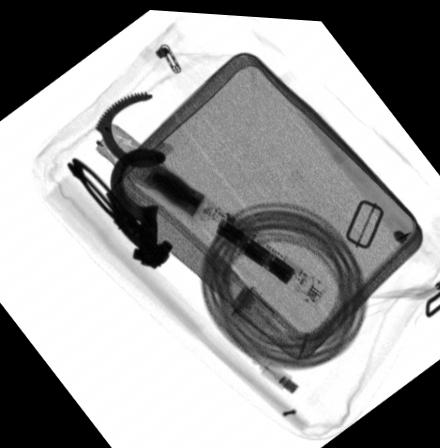Baton: (91, 119, 330, 305)
HandCuffs: (64, 87, 174, 268)
